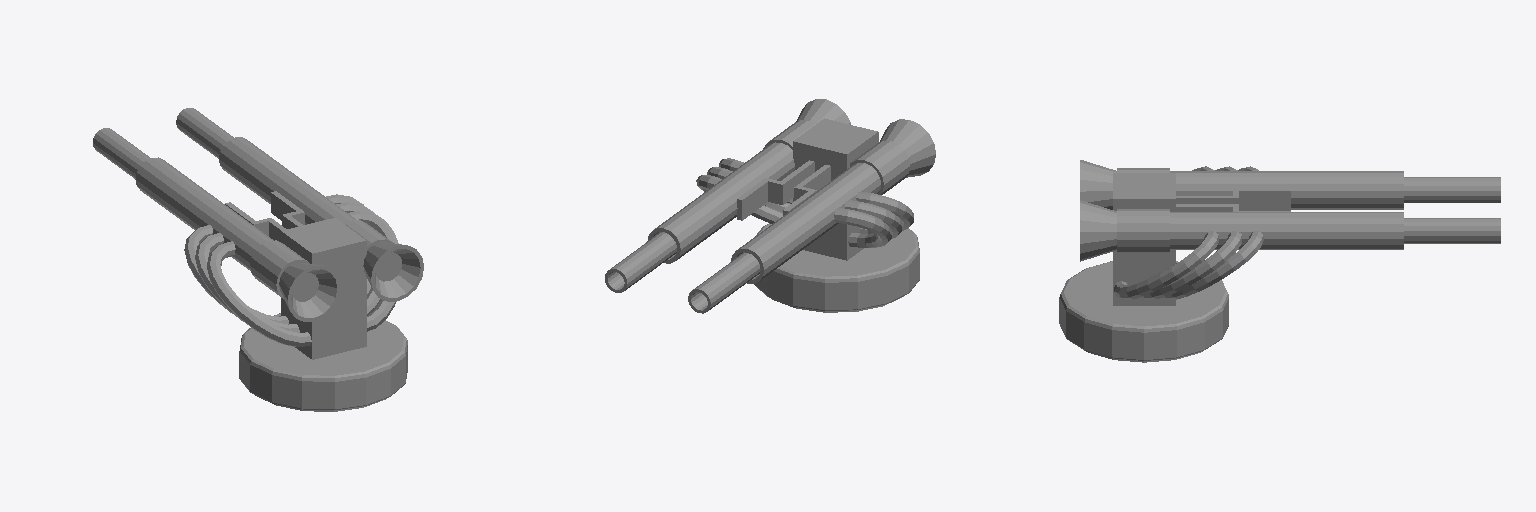
The model's file is Typ-1_weapon.obj.
3 views of the same model, side by side, from view 1: azimuth 30°, elevation 25°; view 2: azimuth 150°, elevation 25°; view 3: azimuth 270°, elevation 25° (orthographic).
Visible parts, largest first — view 1: Gun_Cylinder; view 2: Gun_Cylinder; view 3: Gun_Cylinder.
Part boxes in pixels (bbox=[...]): Gun_Cylinder: bbox=[93, 108, 423, 411]; Gun_Cylinder: bbox=[605, 99, 935, 313]; Gun_Cylinder: bbox=[1059, 160, 1500, 362].
Size of the model in its own units: 2.82 by 2.14 by 5.83.